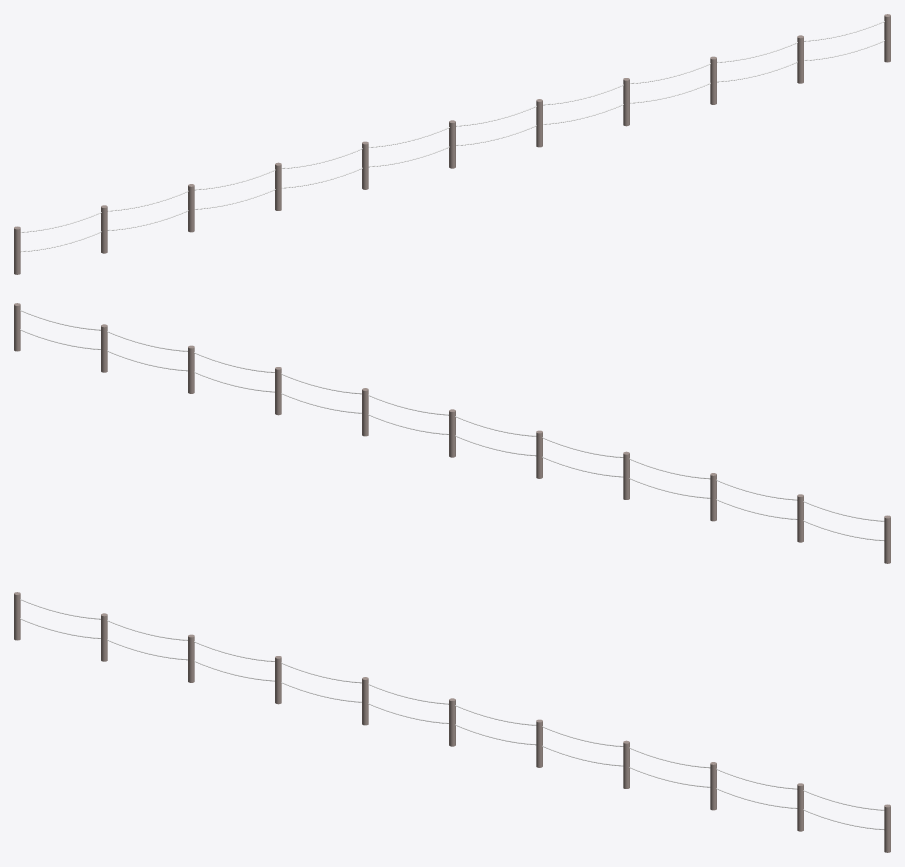
Rendered from 1037_fence_10.glb.
3 views of the same model, one above another, from view 1: azimuth 30°, elevation 25°; view 2: azimuth 150°, elevation 25°; view 3: azimuth 330°, elevation 25° (orthographic).
Parts seen in each view (by area): view 1: Body; view 2: Body; view 3: Body.
Boxes of the visible parts, bbox=[...] form: Body: bbox=[14, 14, 890, 274]; Body: bbox=[14, 303, 890, 563]; Body: bbox=[14, 592, 890, 852].
Size of the model in its own units: 15.1 by 0.75 by 0.1.
